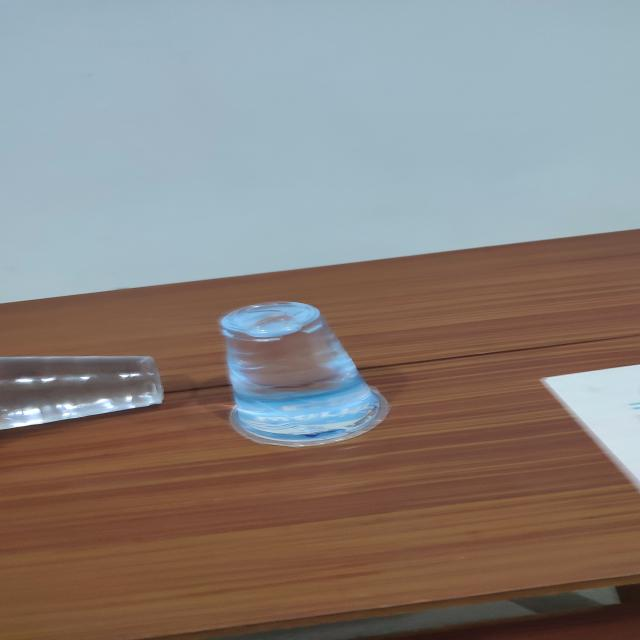air gelas: (216, 288, 395, 446)
